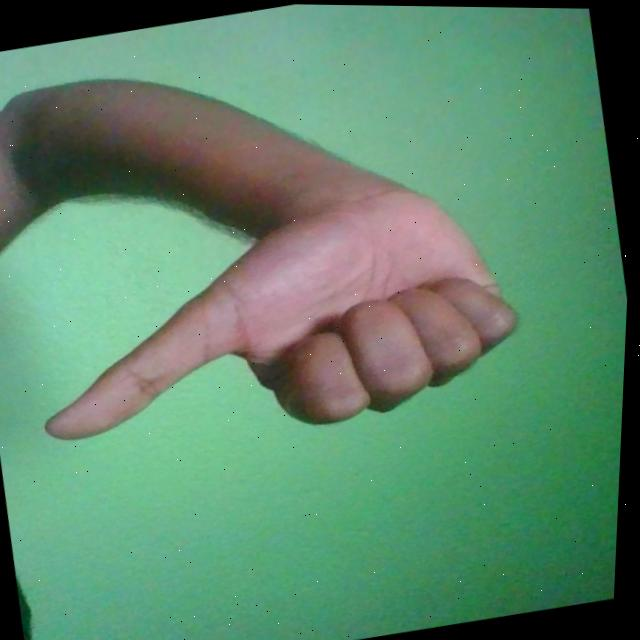Dislike: (15, 161, 542, 474)
